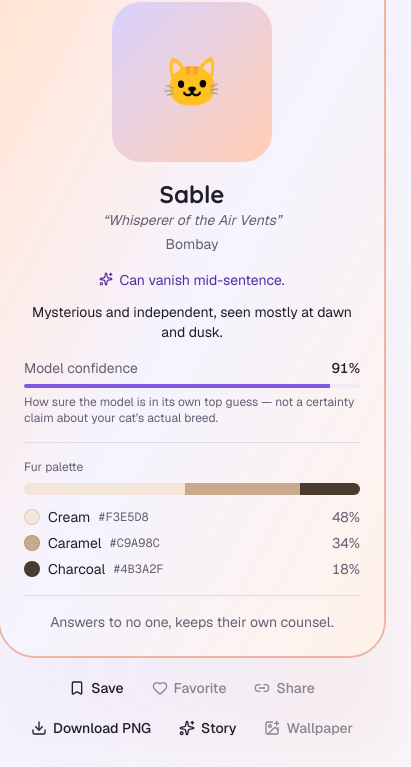
Test: CatCard › Download › shows an error state, not a blank/broken image, when export fails
The image size is (411, 767).
(page scrolled)
Click the button "Download PNG": (91, 728) [21, 712, 161, 744]
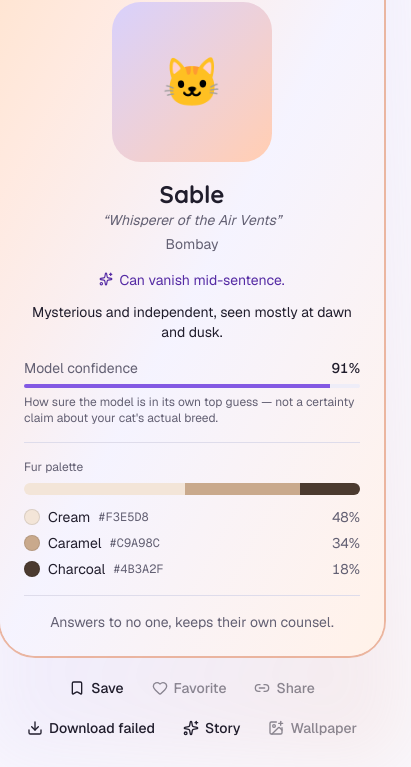
Expected: the button "Download failed" is shown, [17, 712, 165, 744]
